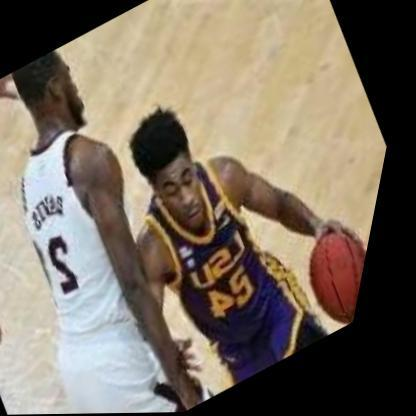basketball: (290, 216, 382, 337)
